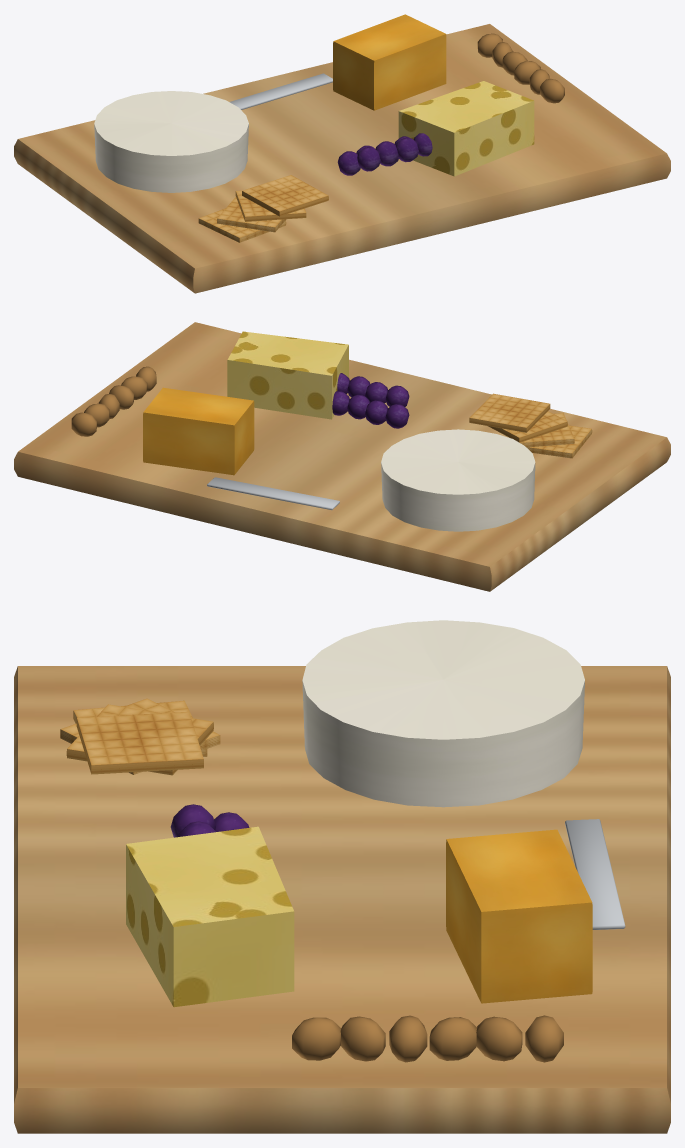
File: deli_cheese_board.glb
3 renders of one model, top to bottom at view 1: azimuth 30°, elevation 25°; view 2: azimuth 150°, elevation 25°; view 3: azimuth 270°, elevation 25°, orthographic. The views are drawn at different scales.
Parts seen in each view (by area): view 1: deli_cheese_board; view 2: deli_cheese_board; view 3: deli_cheese_board.
Boxes of the visible parts, x1,y1,x2,y2 form: deli_cheese_board: (14,14,670,293); deli_cheese_board: (14,322,670,591); deli_cheese_board: (14,620,670,1133).
Bounding box in the file's own units: 0.4 × 0.06 × 0.26.
Materials: 8 (6 with a texture image).
